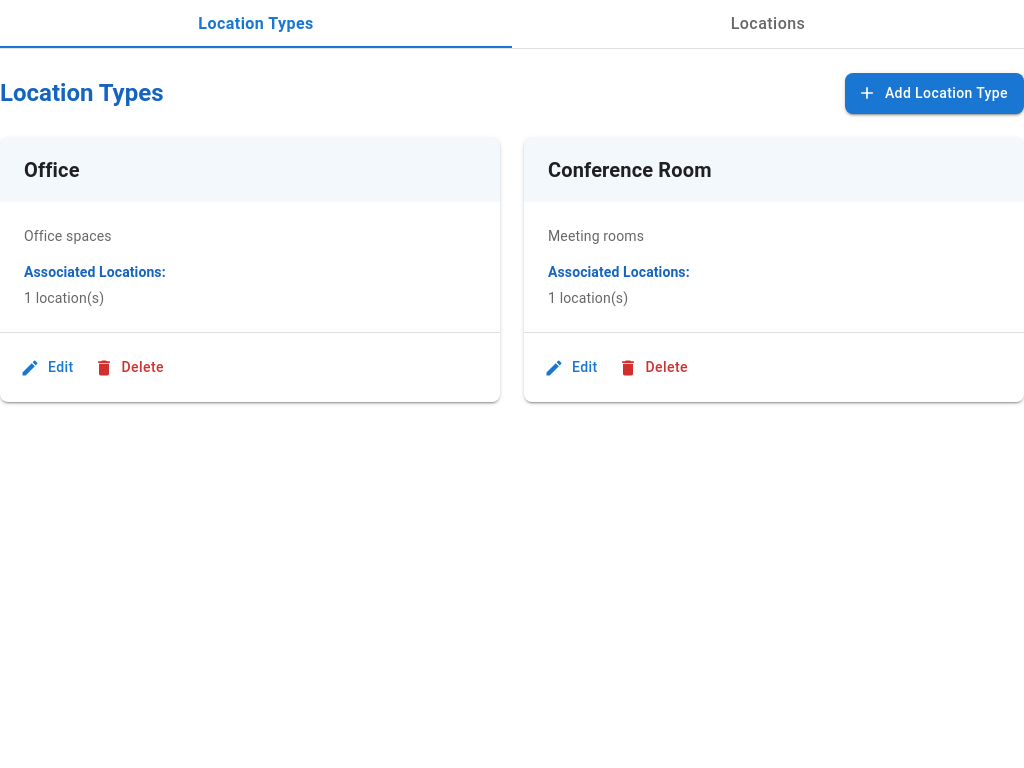
it: LocationManagement › handles location creation
The width and height of the screenshot is (1024, 768).
// Switch to Locations tab
Step 1. Click the tab "Locations" → point(768, 24), box [512,0,1023,48]
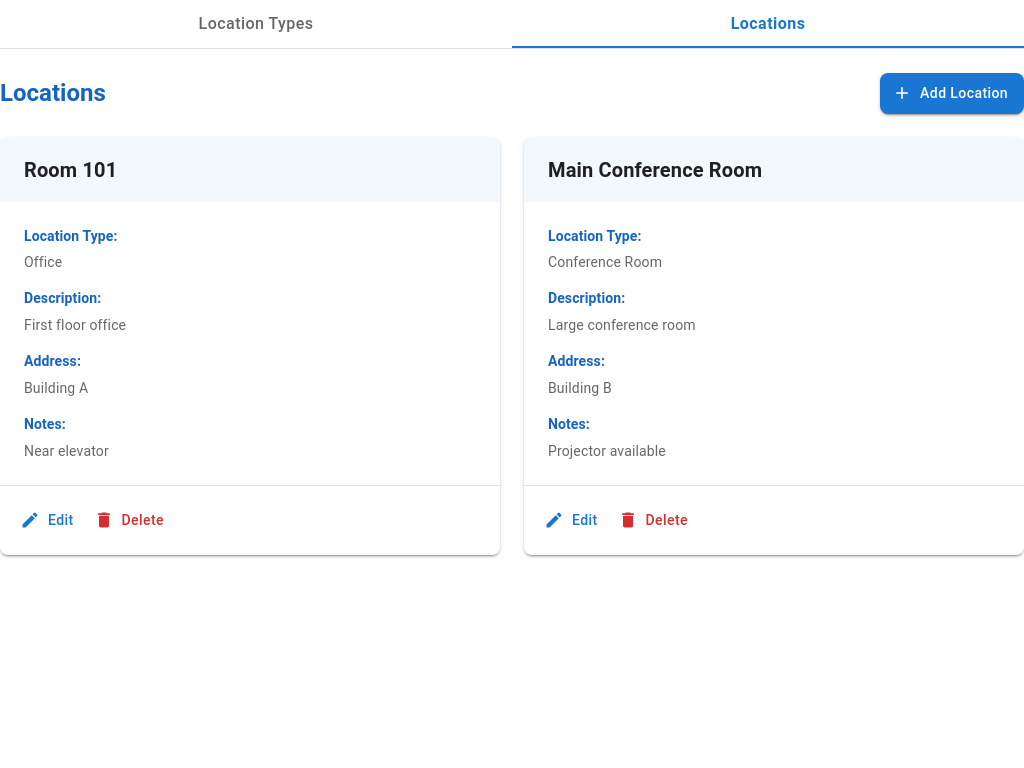
// Open dialog
Step 2. Click the button "Add Location" → point(952, 93), box [880,73,1023,114]
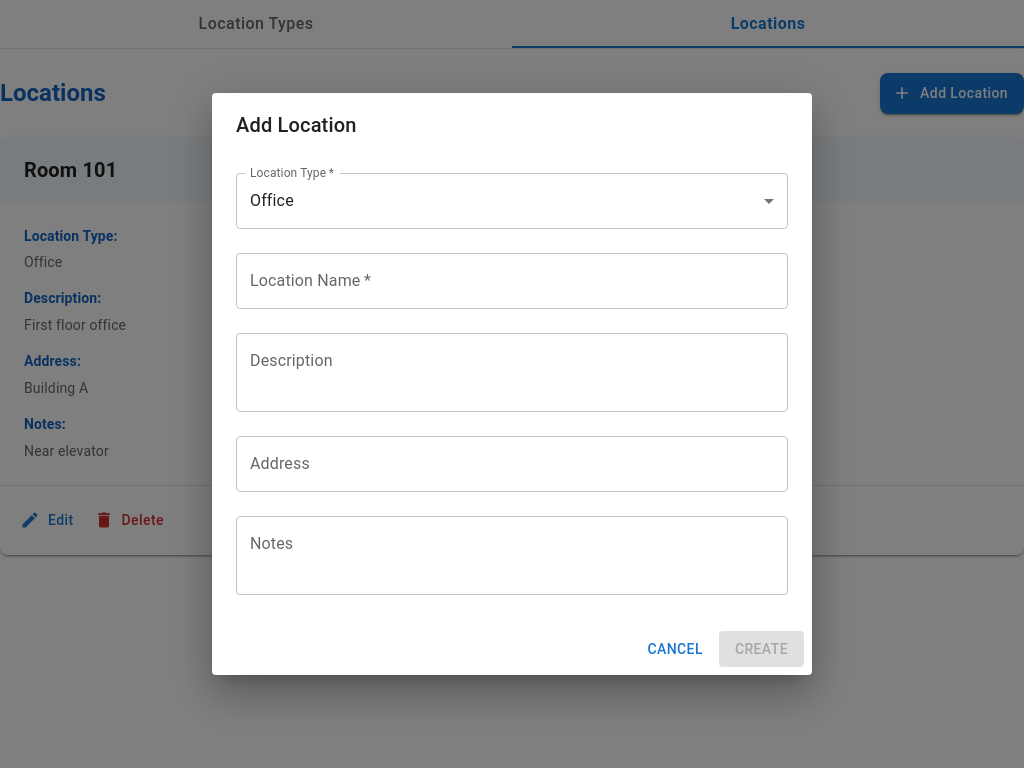
// Fill form
Step 3. Type "New Room" into the field labelled "Location Name *" → point(512, 281), box [236,253,788,309]
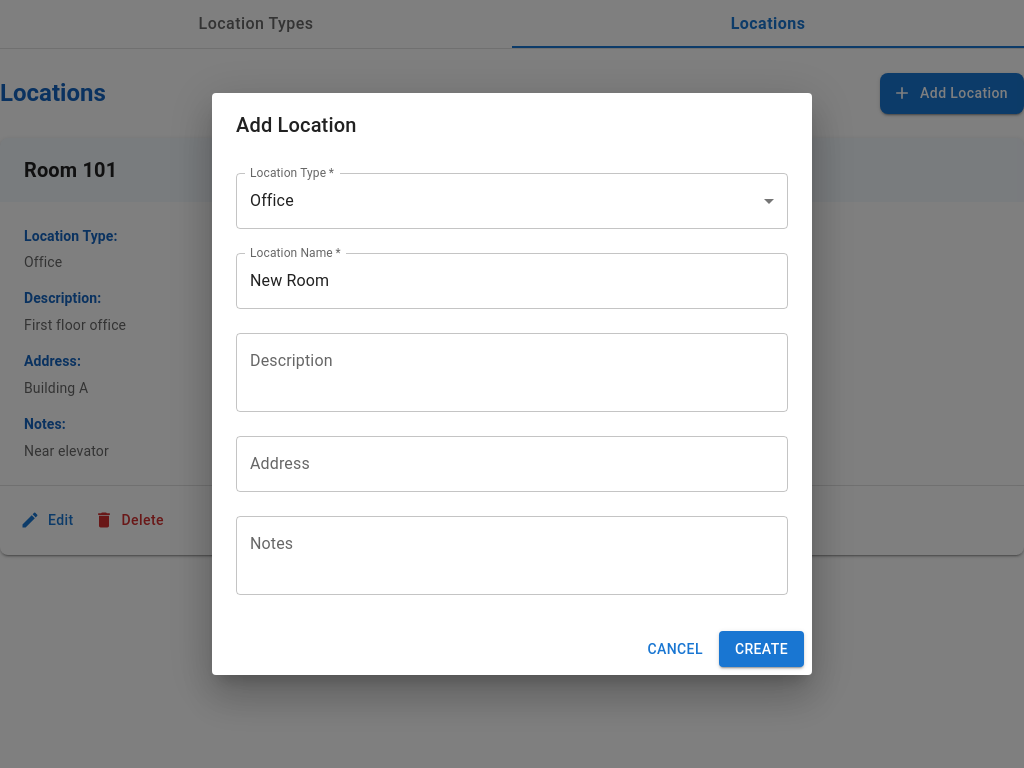
Step 4. Type "New office space" into the text box labelled "Description" → point(512, 372), box [250,349,774,395]
Step 5. Type "Building C" into the field labelled "Address" → point(512, 464), box [236,436,788,492]
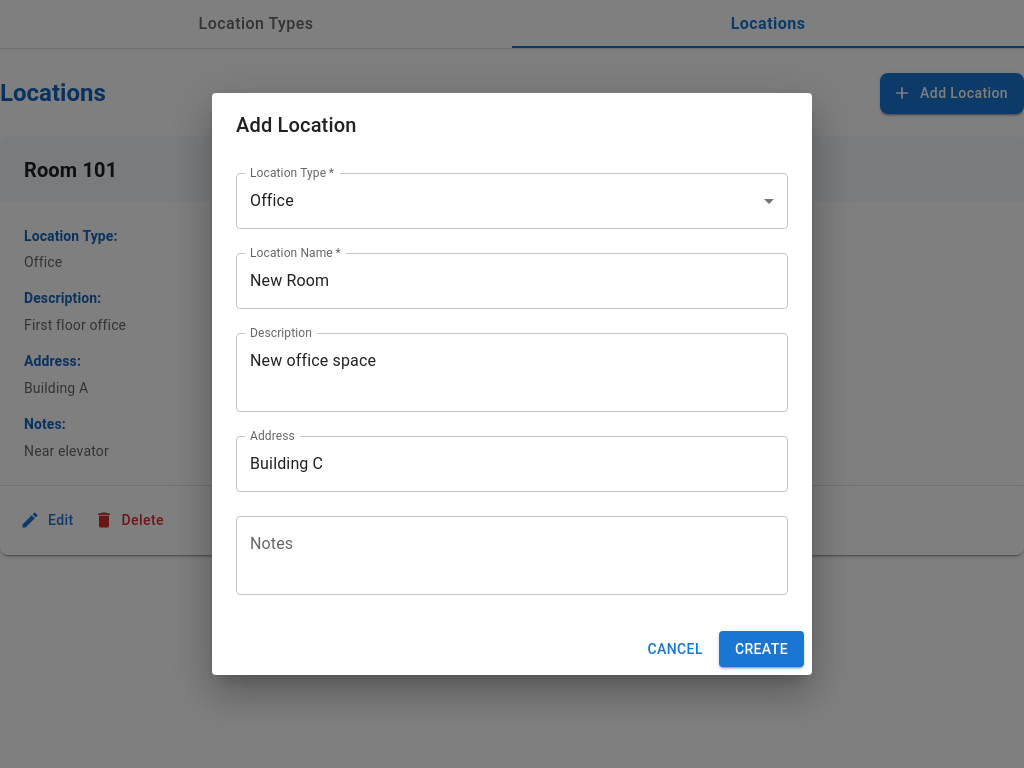
Step 6. Type "Ground floor" into the text box labelled "Notes" → point(512, 555), box [250,532,774,578]
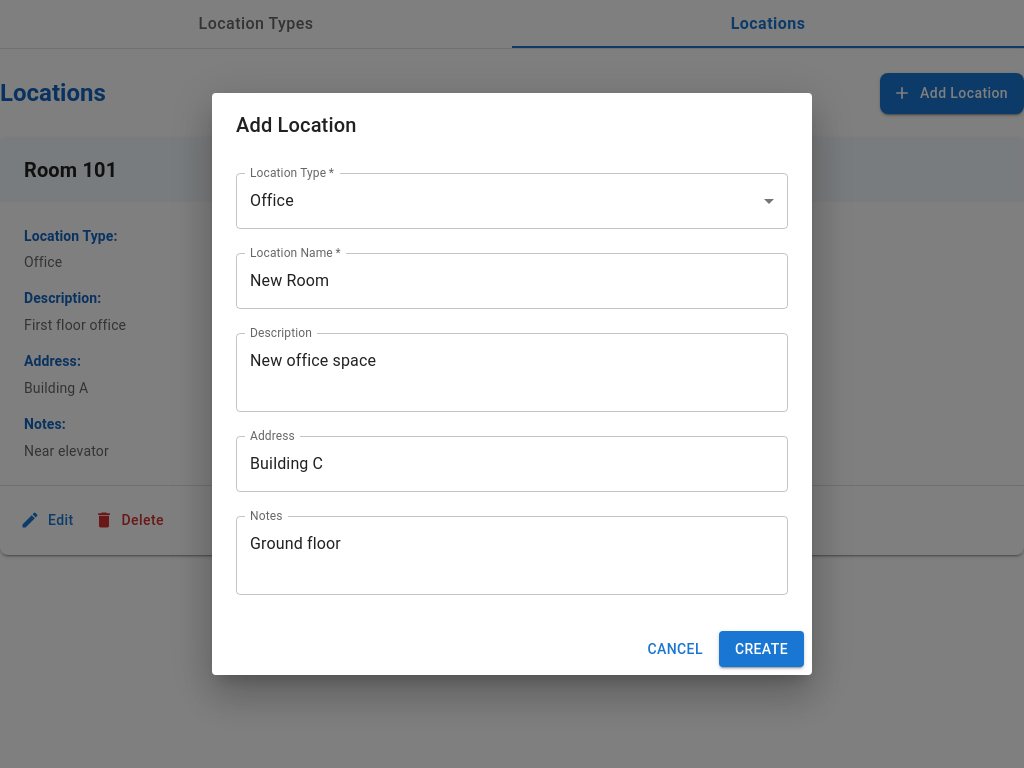
// Submit form
Step 7. Click the button "Create" → point(761, 649), box [719,631,804,667]
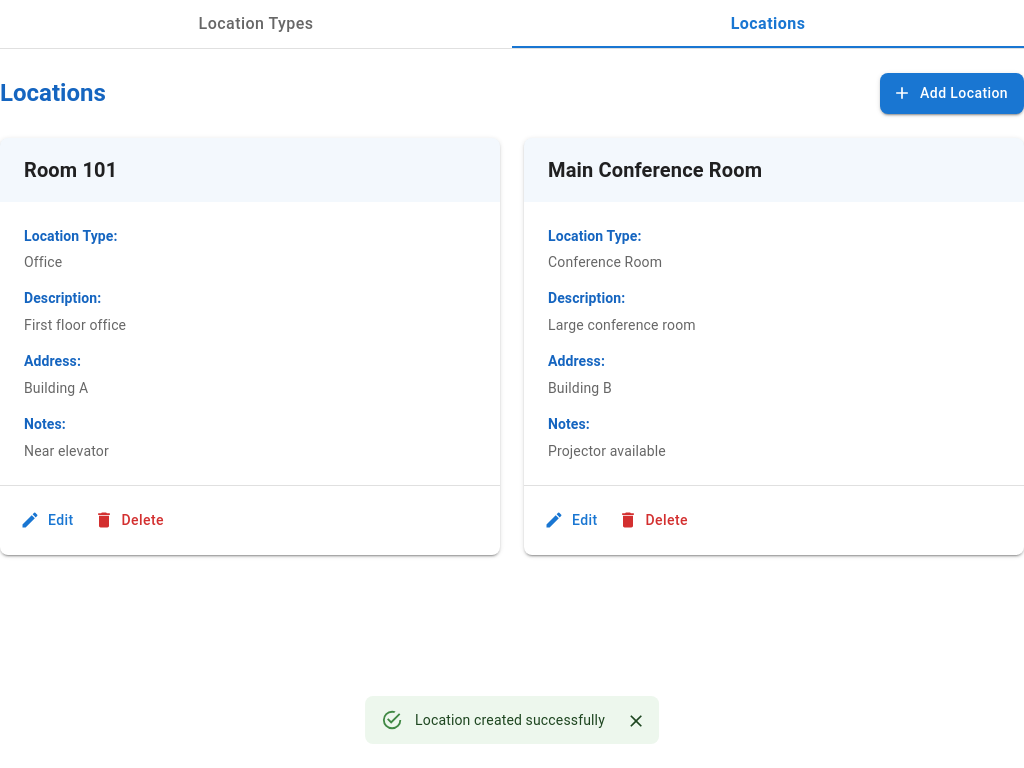
Expected: the text "Location created successfully" is shown, [415,712,605,728]
